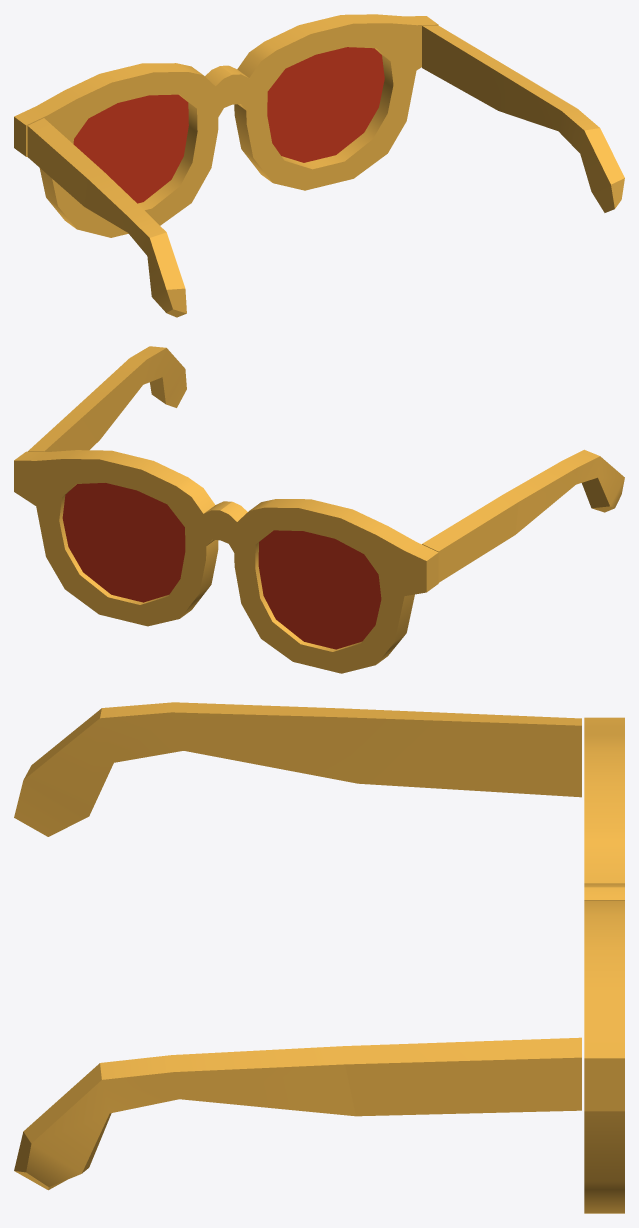
The model's file is Eyewear_7.fbx.
3 renders of one model, top to bottom at view 1: azimuth 30°, elevation 25°; view 2: azimuth 150°, elevation 25°; view 3: azimuth 270°, elevation 25°, orthographic. The views are drawn at different scales.
Visible parts, largest first — view 1: Eyewear_7; view 2: Eyewear_7; view 3: Eyewear_7.
Boxes of the visible parts, box(x1,y1,x2,y2) form: Eyewear_7: box(14, 14, 624, 317); Eyewear_7: box(14, 346, 624, 673); Eyewear_7: box(14, 702, 624, 1213).
Size of the model in its own units: 71.24 by 23.06 by 48.62.
